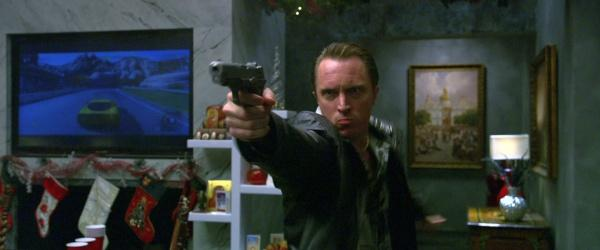Gun: (210, 60, 263, 102)
